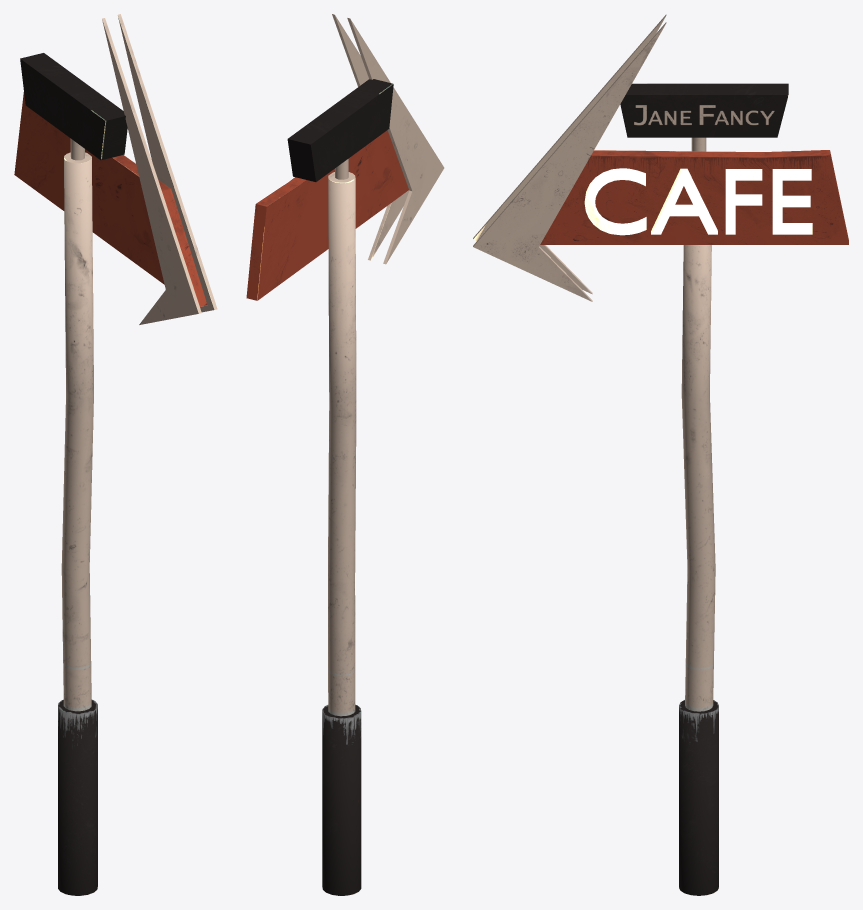
3 views of the same model, side by side, from view 1: azimuth 30°, elevation 25°; view 2: azimuth 150°, elevation 25°; view 3: azimuth 270°, elevation 25° (orthographic). The views are drawn at different scales.
Visible parts, largest first — view 1: LP; view 2: LP; view 3: LP.
Boxes of the visible parts, <box> form: LP: <box>14,14,217,895</box>; LP: <box>246,14,444,895</box>; LP: <box>473,14,848,895</box>.
Size of the model in its own units: 136 by 2401 by 932.
Materials: 1 (1 with a texture image).
